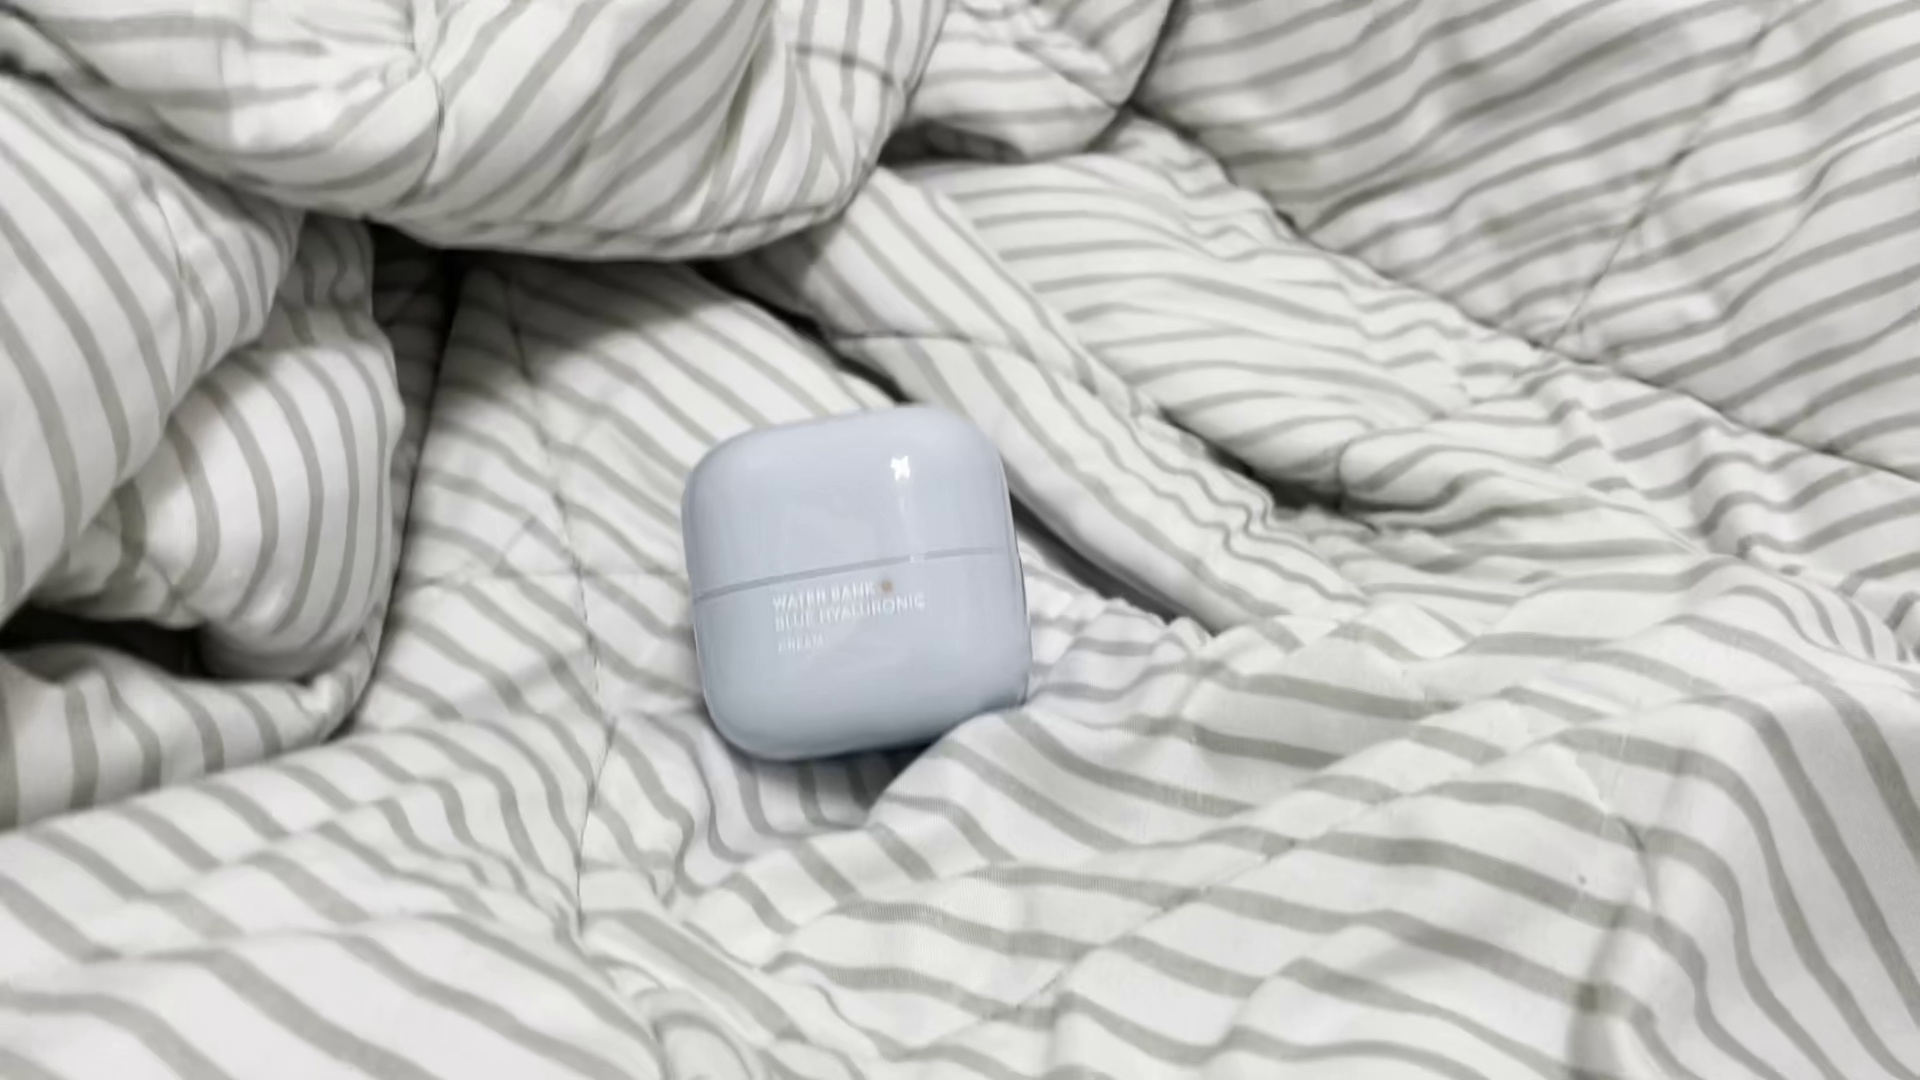cream: (688, 405, 1033, 758)
